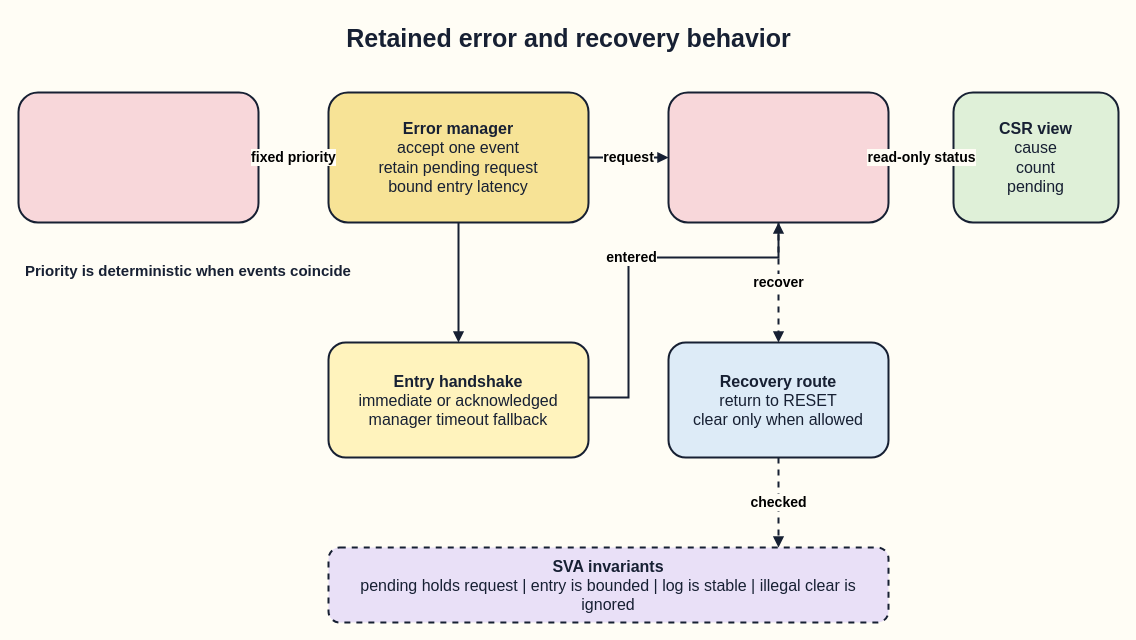
Image size: 1136x640. Some labels were removed from this diagram. Each missing label, with the centre of its shape:
"Eligible events state timeout (highest) sideband protocol local fatal" belongs at [138,157].
"TRAINERROR stable cause saturating event count clear protected here" belongs at [778,157].
